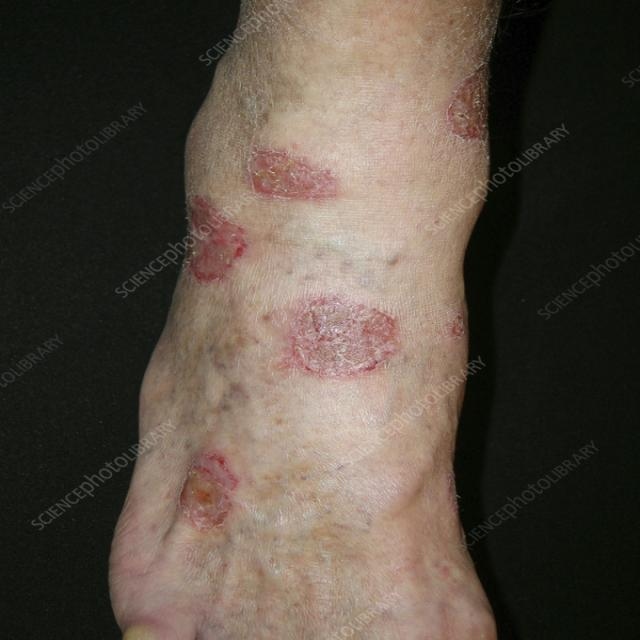Eczema: (290, 291, 399, 380), (230, 148, 341, 210), (183, 198, 251, 277), (179, 454, 242, 531), (443, 66, 488, 143)
